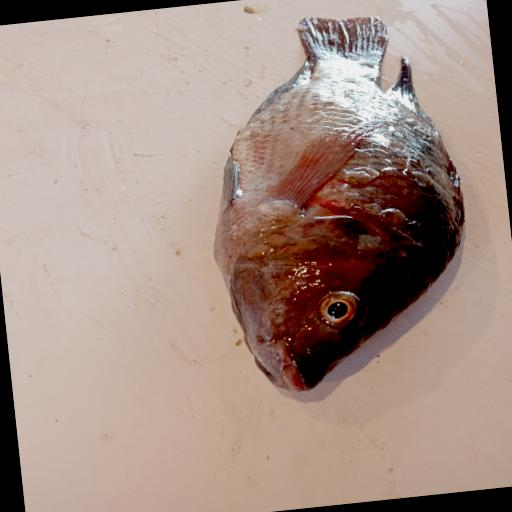Tilapia: (189, 3, 483, 401)
